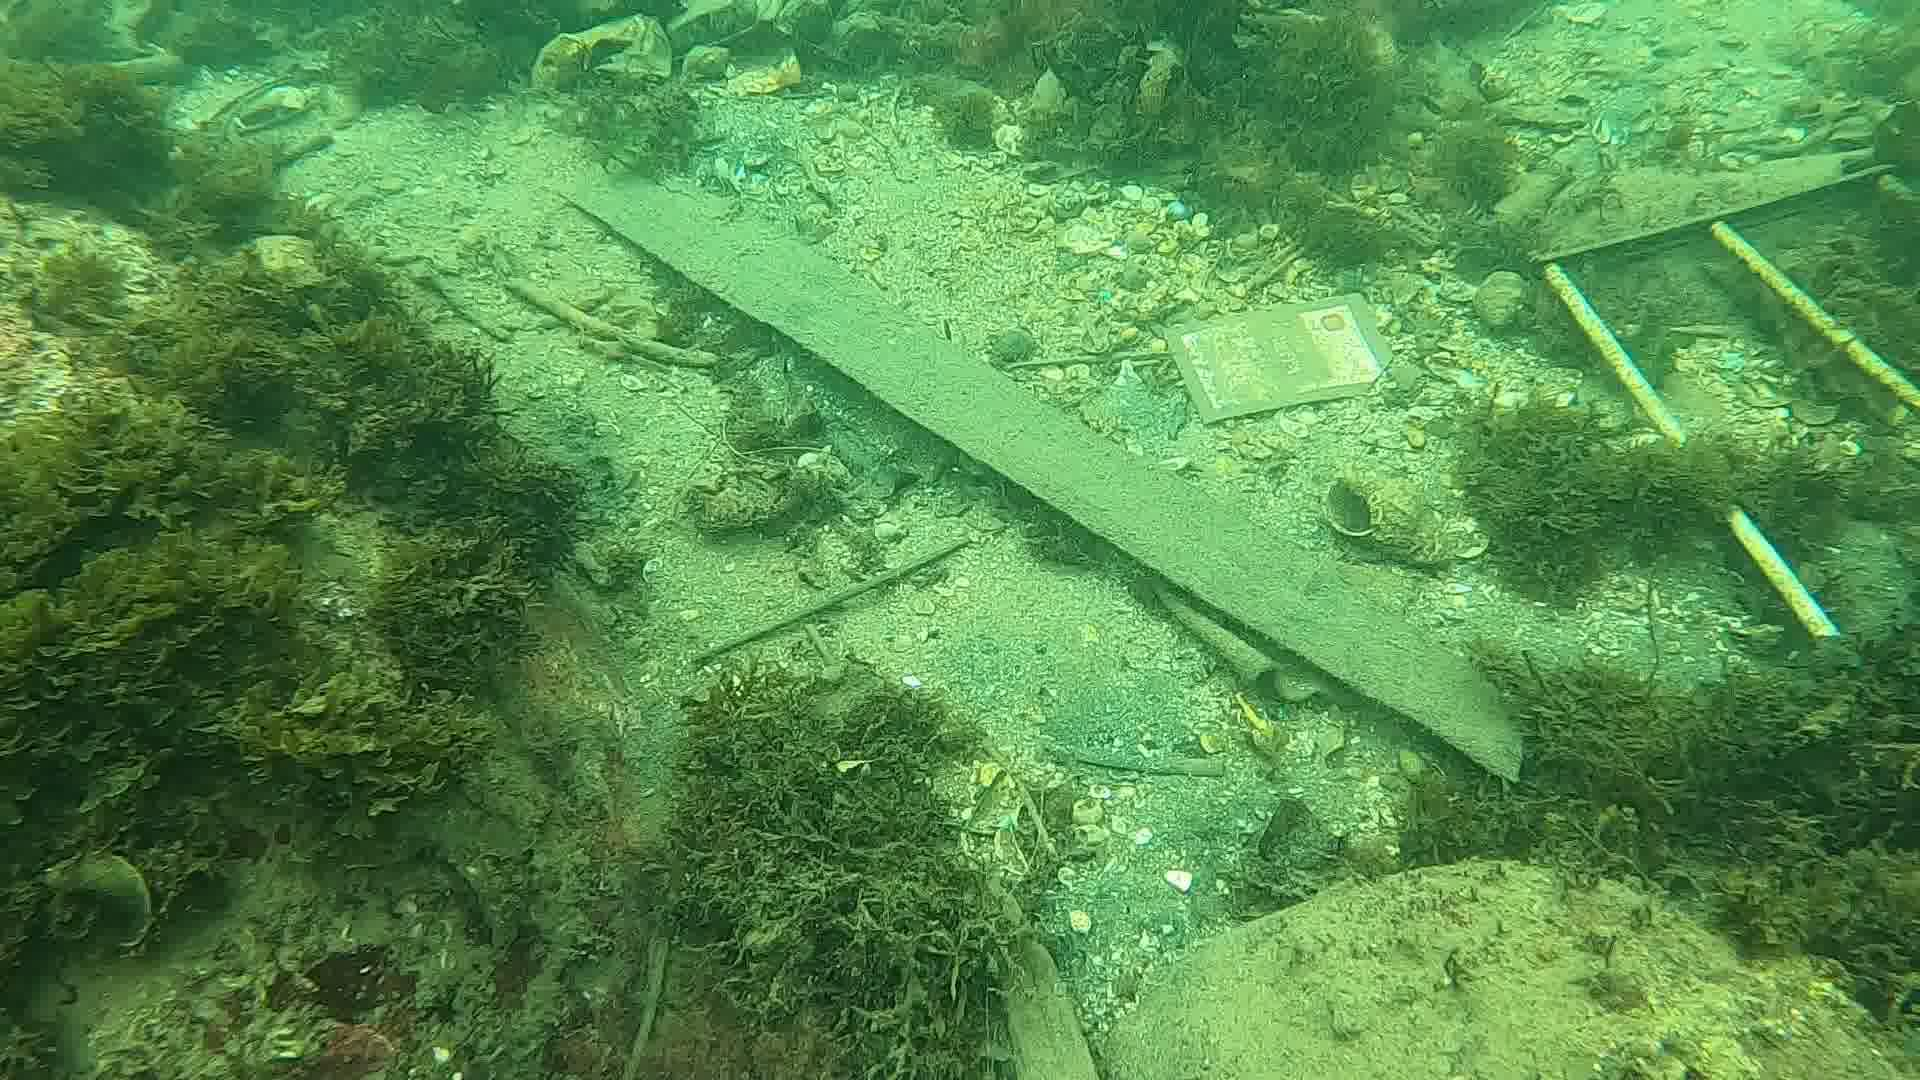wood: (555, 175, 1524, 785)
